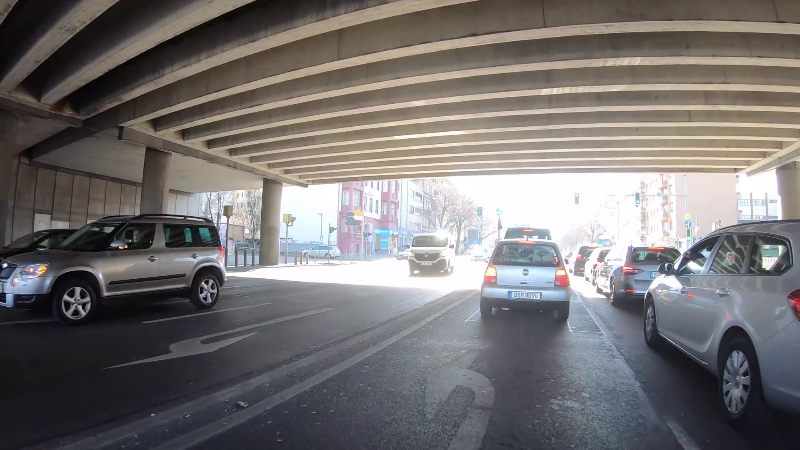Plate: (507, 289, 544, 300)
